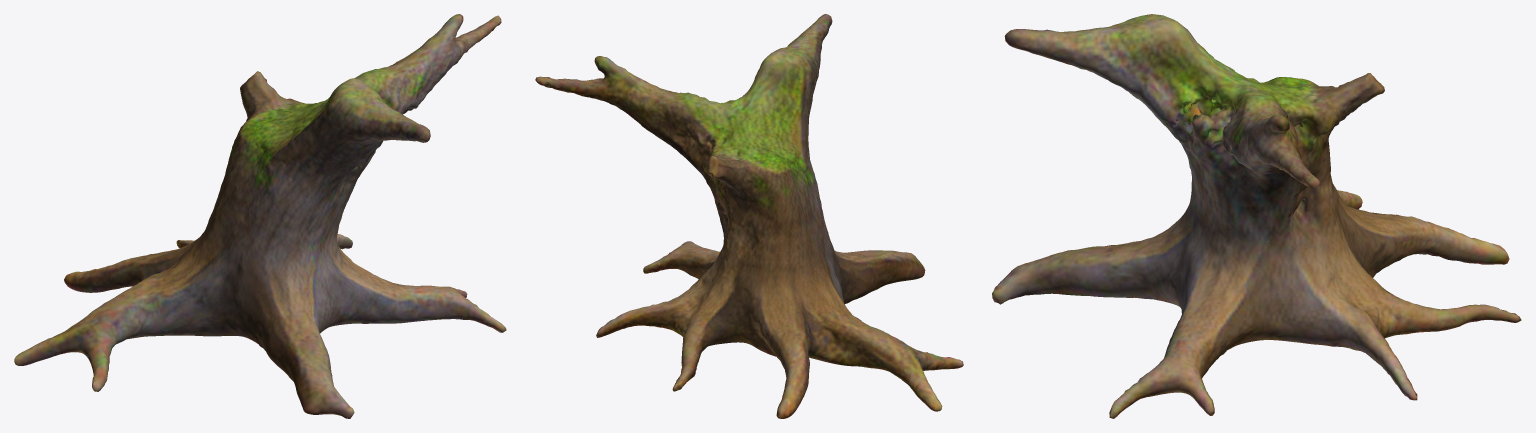
File: stump.glb
3 renders of one model, left to right at view 1: azimuth 30°, elevation 25°; view 2: azimuth 150°, elevation 25°; view 3: azimuth 270°, elevation 25°, orthographic. The views are drawn at different scales.
Parts seen in each view (by area): view 1: Mesh1; view 2: Mesh1; view 3: Mesh1.
Part boxes in pixels (bbox=[...]): Mesh1: bbox=[14, 14, 506, 418]; Mesh1: bbox=[535, 14, 963, 418]; Mesh1: bbox=[992, 14, 1521, 418].
Size of the model in its own units: 1.2 by 0.6816 by 0.967.
Materials: 1 (1 with a texture image).
